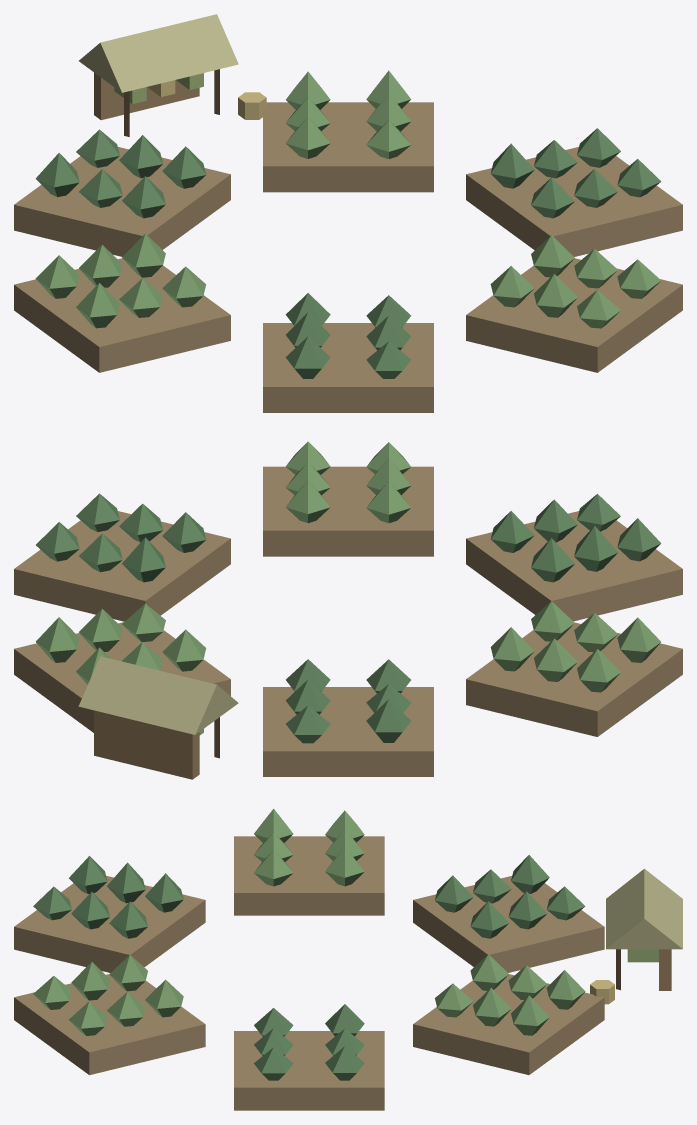
File: plantation.glb
The picture shows the model from 3 angles, top to bottom: view 1: azimuth 30°, elevation 25°; view 2: azimuth 150°, elevation 25°; view 3: azimuth 270°, elevation 25°; orthographic projection. The views are drawn at different scales.
Parts seen in each view (by area): view 1: LOD0; view 2: LOD0; view 3: LOD0.
Boxes of the visible parts, <box> form: LOD0: <box>14,14,682,412</box>; LOD0: <box>14,441,682,779</box>; LOD0: <box>14,808,682,1110</box>.
Size of what is drawn, in the model's own units: 1.42 by 0.24 by 1.6.
